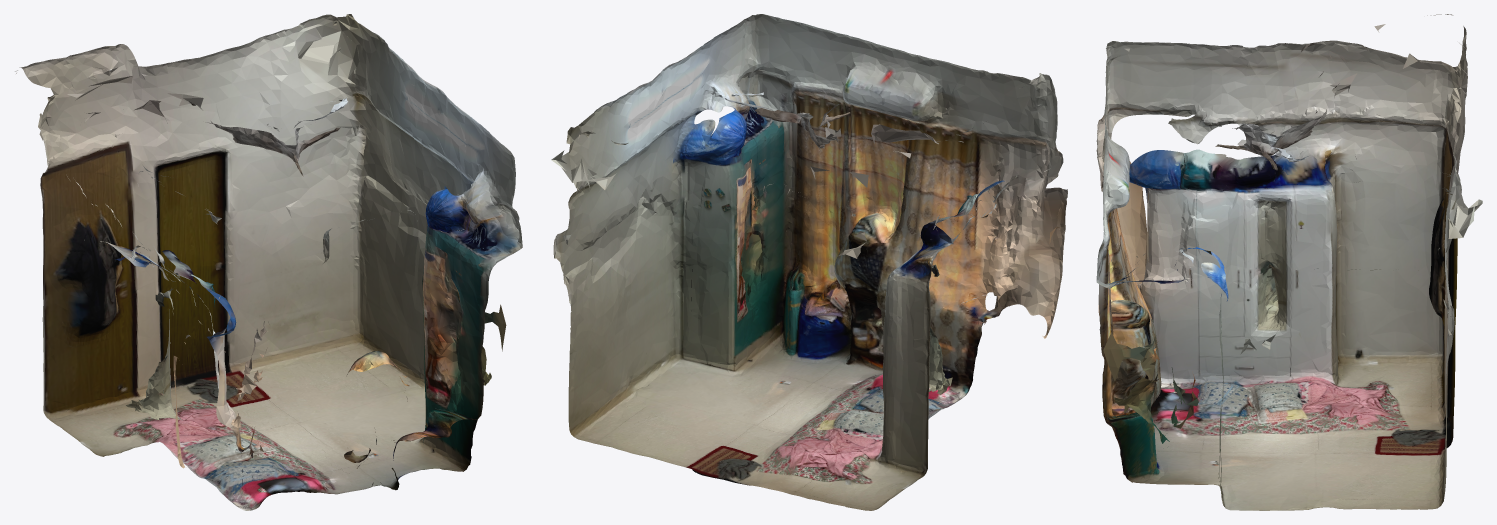
File: lod0_unrepaired.glb
The picture shows the model from 3 angles, left to right: view 1: azimuth 30°, elevation 25°; view 2: azimuth 150°, elevation 25°; view 3: azimuth 270°, elevation 25°; orthographic projection. The views are drawn at different scales.
Bounding box in the file's own units: 3.4 × 3.2 × 3.28.
1 material, 1 textured.
